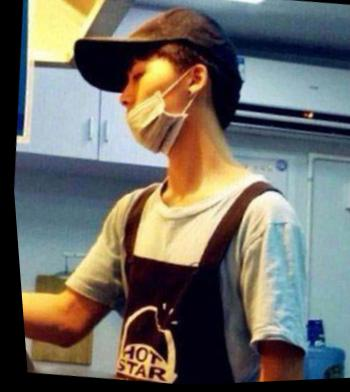WRONG: (106, 46, 189, 159)
